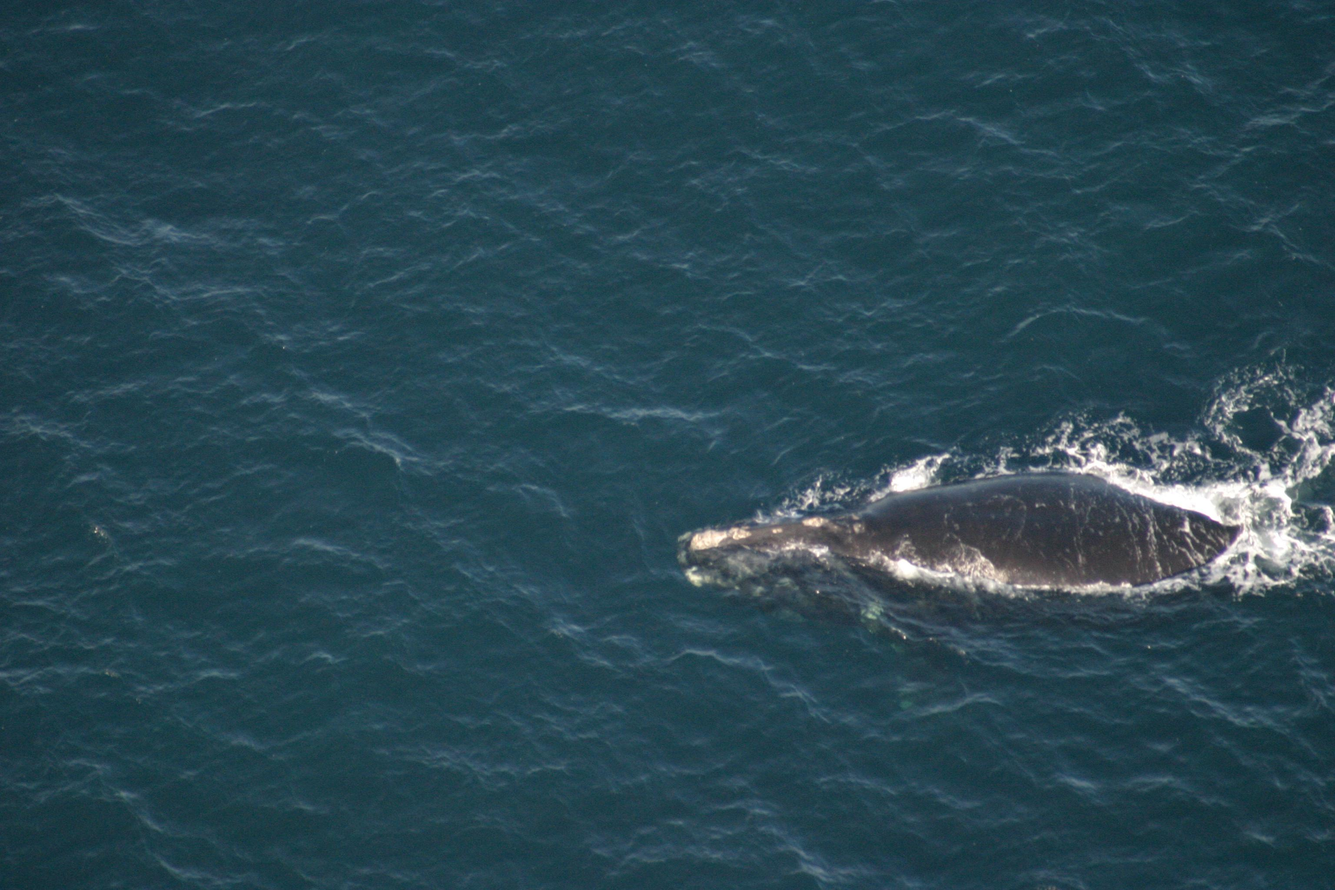whale: (664, 450, 1335, 720)
